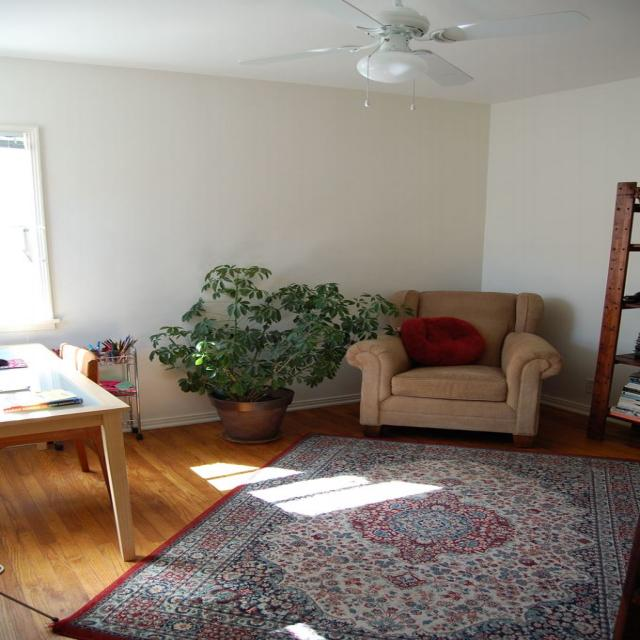Bulb: (238, 0, 594, 114)
